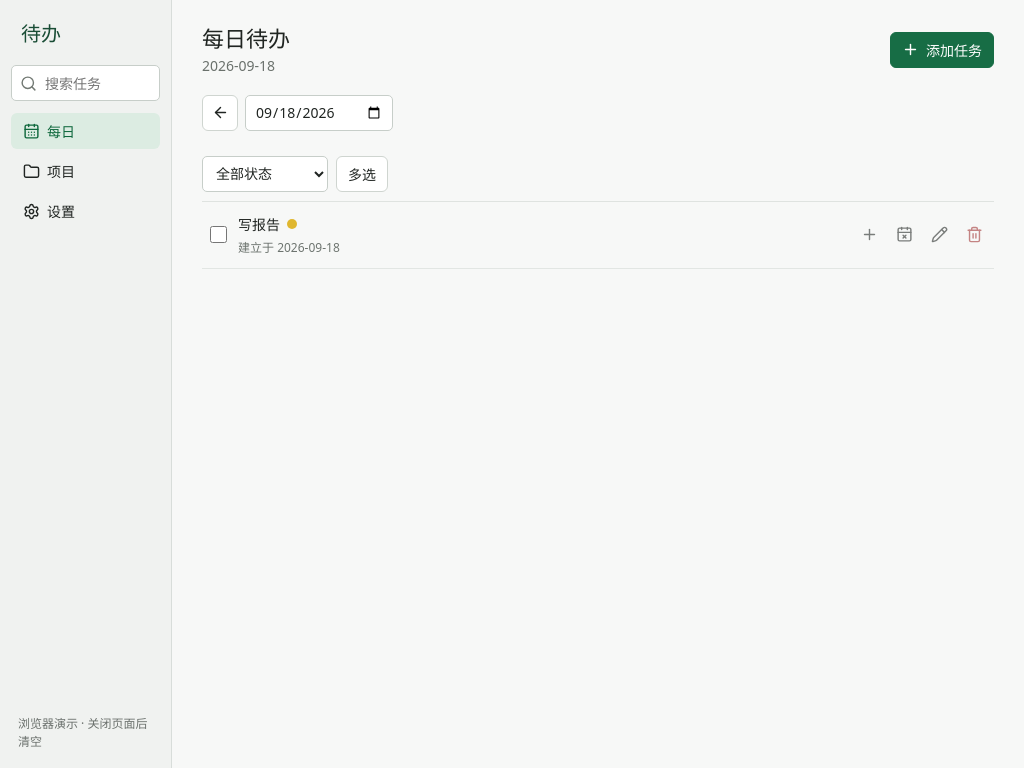
right-clicking a task row suppresses the native menu and opens the custom menu
Right-click the list item "写报告" at (598, 235), box [202,202,994,268]
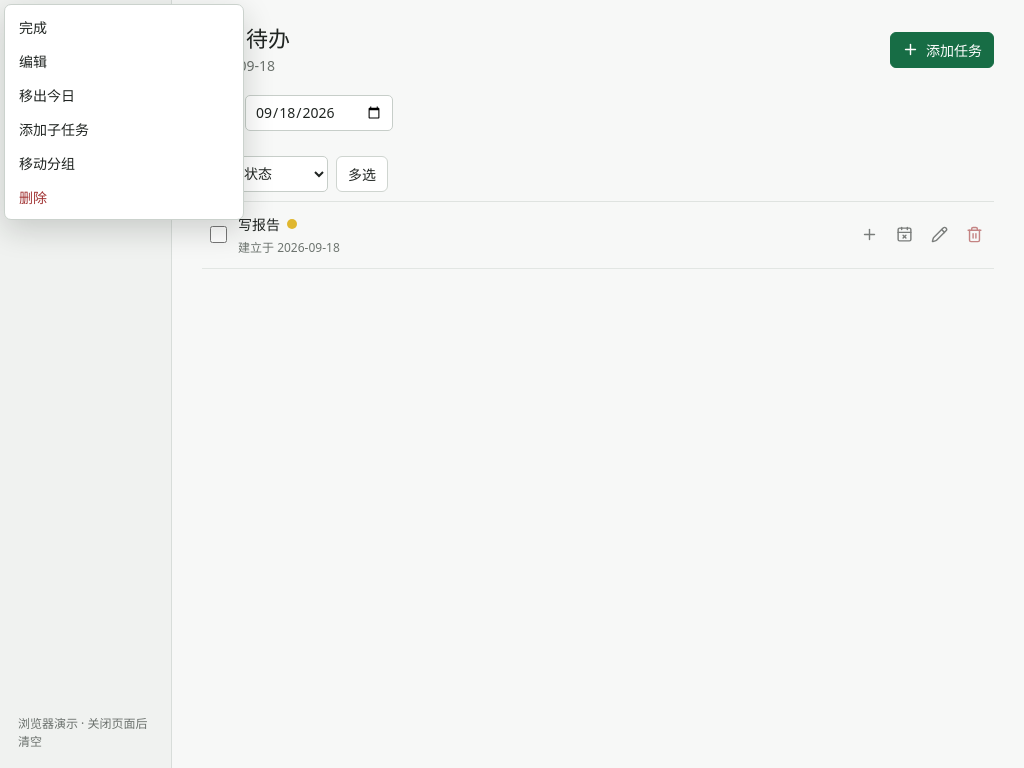
Result: the menu is shown at [4,4,244,220]
